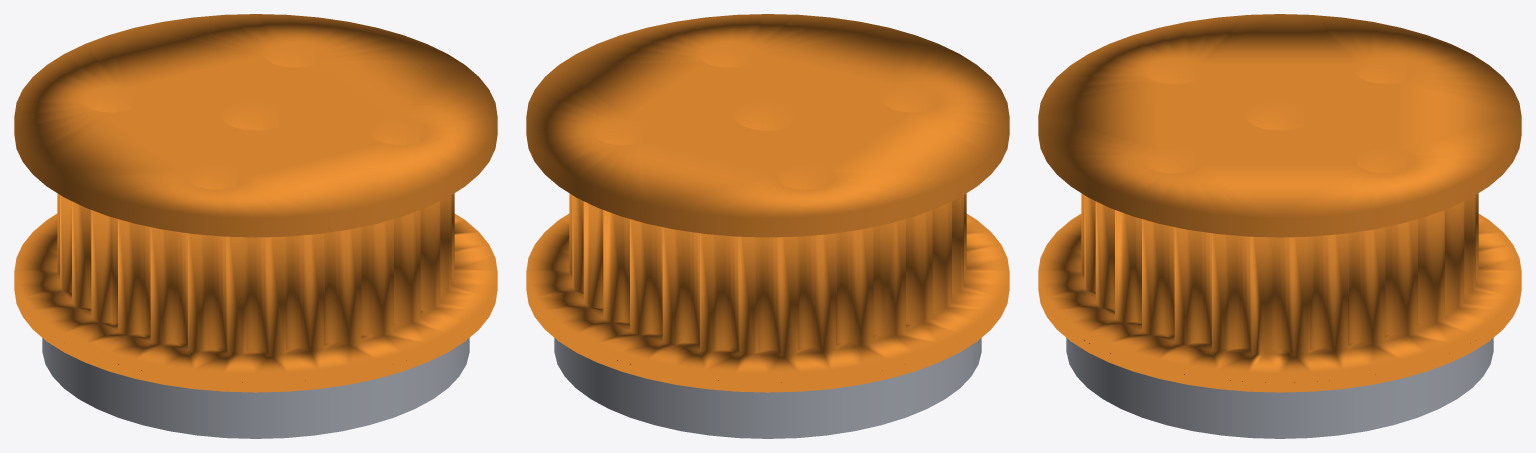
Rendered from turntable_pulley.obj.
3 views of the same model, side by side, from view 1: azimuth 30°, elevation 25°; view 2: azimuth 150°, elevation 25°; view 3: azimuth 270°, elevation 25° (orthographic).
Parts seen in each view (by area): view 1: GT2_30T_drive_pulley, Servo_horn_(reference); view 2: GT2_30T_drive_pulley, Servo_horn_(reference); view 3: GT2_30T_drive_pulley, Servo_horn_(reference).
Part boxes in pixels (x1,y1,x2,y2): GT2_30T_drive_pulley: (14, 14, 497, 392); Servo_horn_(reference): (42, 338, 469, 438); GT2_30T_drive_pulley: (526, 14, 1009, 392); Servo_horn_(reference): (554, 338, 981, 438); GT2_30T_drive_pulley: (1038, 14, 1521, 392); Servo_horn_(reference): (1066, 338, 1493, 438).
Bounding box in the file's own units: 0.0226 × 0.012 × 0.0226.
